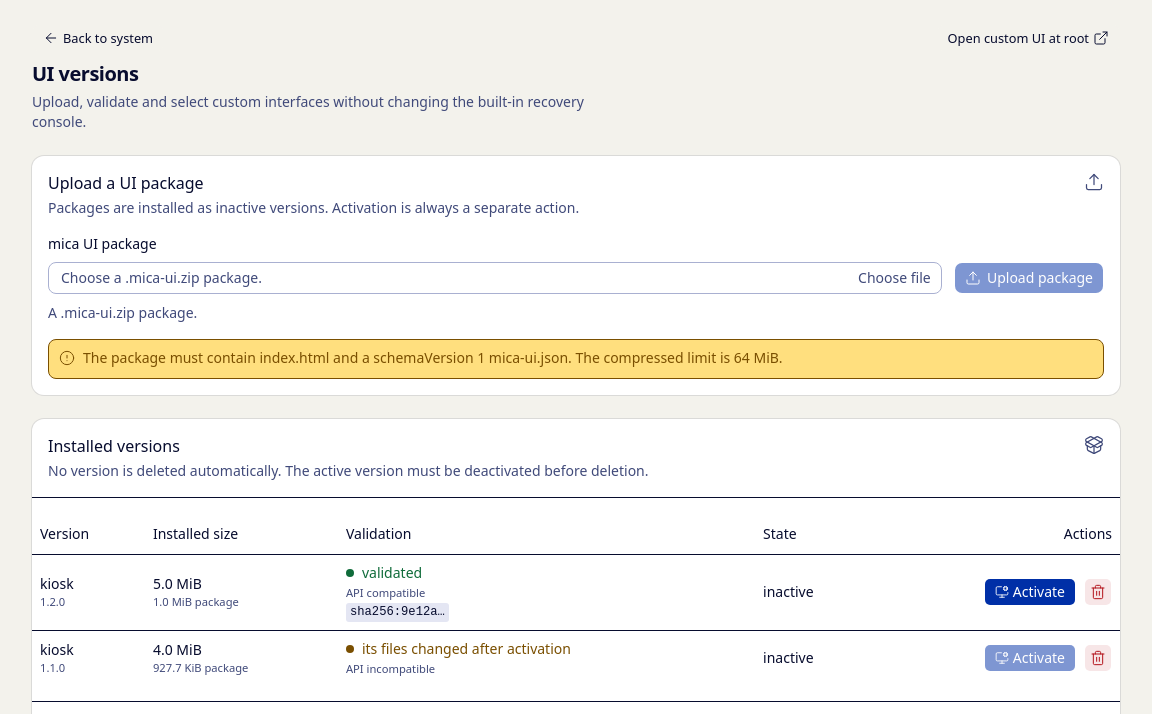
Test: the UI version manager › closes the delete confirmation and names the version that went
Click the button named "Delete generation 3" at x=1098, y=592, box [1084,578,1112,606]
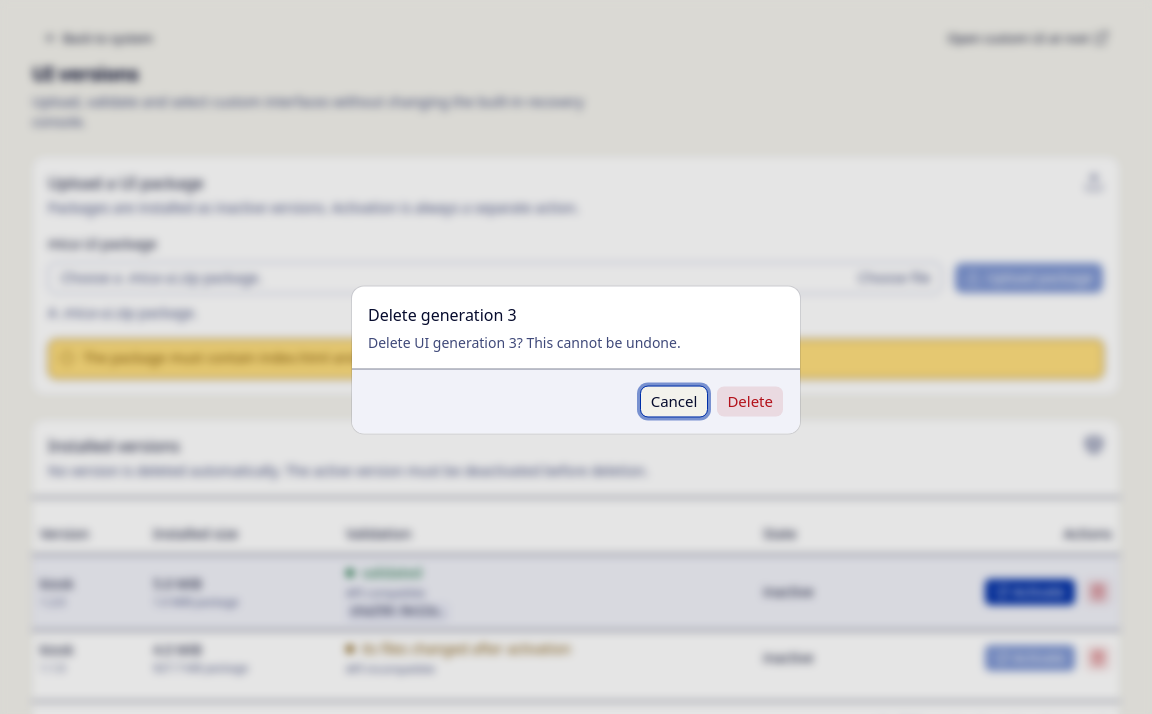
Click the button "Delete" at x=750, y=402, box [716,386,784,418]
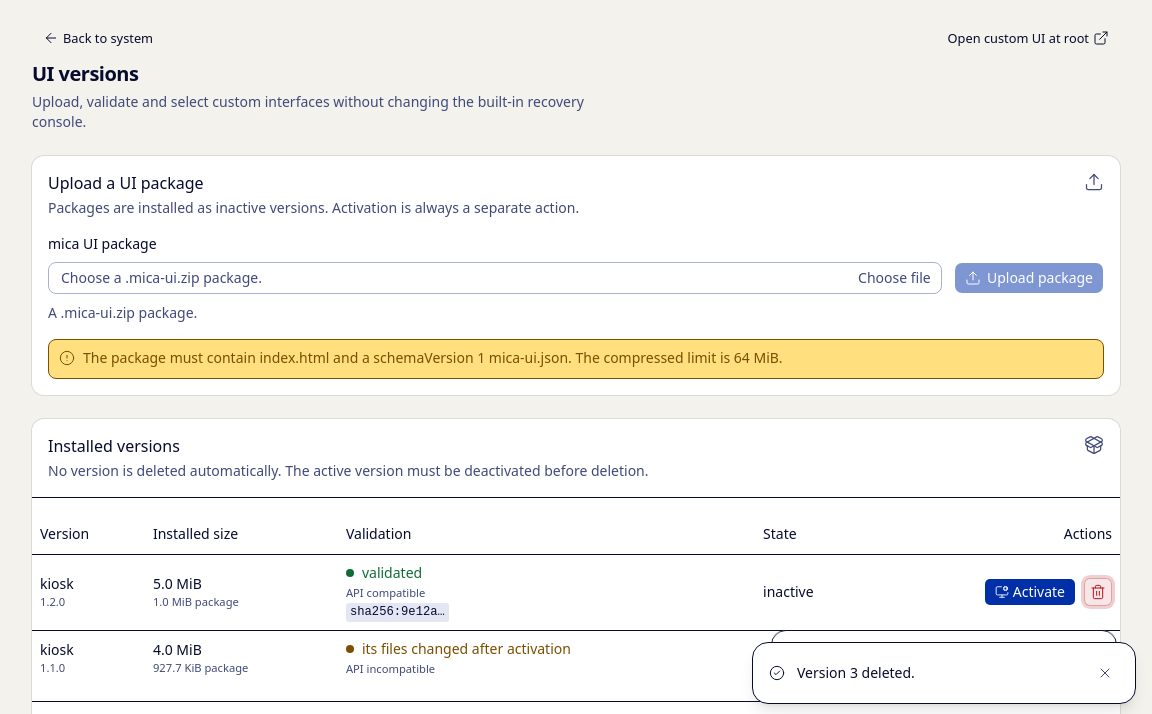
Result: the heading "Version 3 deleted." is shown at [797,663,915,682]
